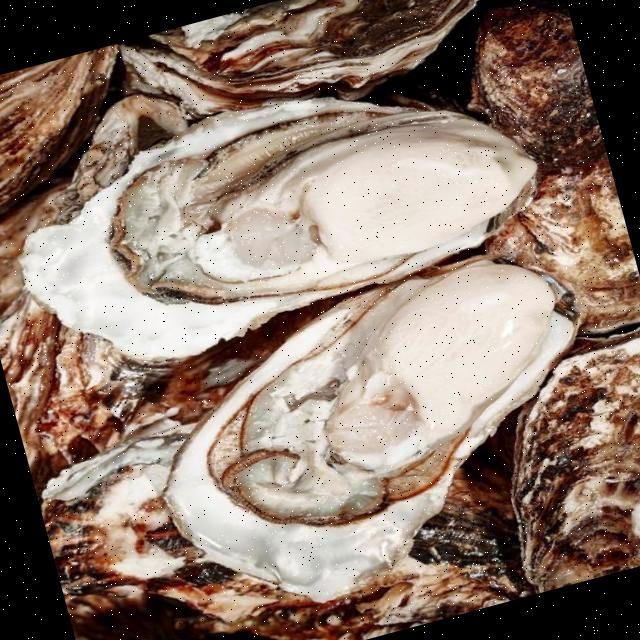Oyster-Closed: (40, 418, 522, 640), (0, 99, 188, 477), (469, 0, 640, 341), (139, 0, 477, 114), (510, 338, 640, 596), (0, 46, 120, 213)
Oyster-Open: (166, 252, 580, 602), (20, 96, 540, 366)
